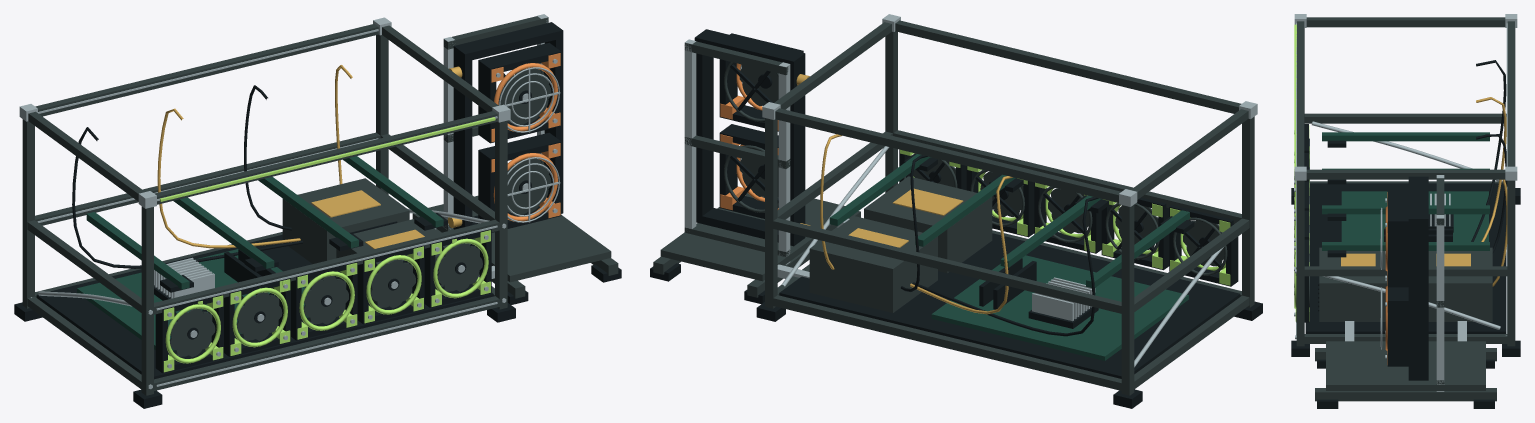
Rendered from rig-gameplay-none-air.glb.
The picture shows the model from 3 angles, left to right: view 1: azimuth 30°, elevation 25°; view 2: azimuth 150°, elevation 25°; view 3: azimuth 270°, elevation 25°; orthographic projection. The views are drawn at different scales.
Parts seen in each view (by area): view 1: Anodized graphite (×9), Rubber and ABS (×9), Brushed aluminium (×4), Circuit board, Lime accents (×5), Industrial orange (×2), Contacts, rig-gameplay-none-air, slot-cable-1, slot-cable-2, slot-cable-3; view 2: Anodized graphite (×7), Rubber and ABS (×8), Circuit board, Brushed aluminium (×2), Contacts, Lime accents (×2), Industrial orange (×2), slot-cable-1, slot-cable-2; view 3: Anodized graphite (×2), Rubber and ABS (×6), Circuit board, Brushed aluminium (×2), Contacts, slot-cable-1, slot-cable-2, slot-cable-3, rig-gameplay-none-air, slot-cable-4.
Boxes of the visible parts, x1,y1,x2,y2 form: Anodized graphite (×9): [22, 16, 618, 395]; Rubber and ABS (×9): [14, 22, 563, 408]; Brushed aluminium (×4): [19, 14, 560, 389]; Circuit board: [77, 156, 443, 350]; Lime accents (×5): [163, 230, 490, 372]; Industrial orange (×2): [491, 53, 560, 221]; Contacts: [311, 190, 424, 248]; rig-gameplay-none-air: [160, 117, 495, 201]; slot-cable-1: [72, 127, 303, 268]; slot-cable-2: [157, 108, 300, 248]; slot-cable-3: [244, 85, 291, 230]; Anodized graphite (×7): [653, 20, 1254, 395]; Rubber and ABS (×8): [694, 29, 1262, 408]; Circuit board: [829, 154, 1189, 360]; Brushed aluminium (×2): [684, 14, 1257, 367]; Contacts: [848, 188, 963, 247]; Lime accents (×2): [1102, 199, 1230, 285]; Industrial orange (×2): [720, 63, 778, 210]; slot-cable-1: [912, 197, 1098, 336]; slot-cable-2: [910, 176, 1012, 314]; Anodized graphite (×2): [1296, 17, 1515, 401]; Rubber and ABS (×6): [1291, 140, 1520, 408]; Circuit board: [1322, 132, 1489, 250]; Brushed aluminium (×2): [1294, 14, 1517, 391]; Contacts: [1341, 253, 1470, 266]; slot-cable-1: [1471, 60, 1506, 241]; slot-cable-2: [1476, 97, 1506, 241]; slot-cable-3: [1476, 134, 1507, 253]; rig-gameplay-none-air: [1294, 24, 1296, 170]; slot-cable-4: [1492, 179, 1507, 286].
Bounding box in the file's own units: 8.02 × 3.32 × 3.66.
